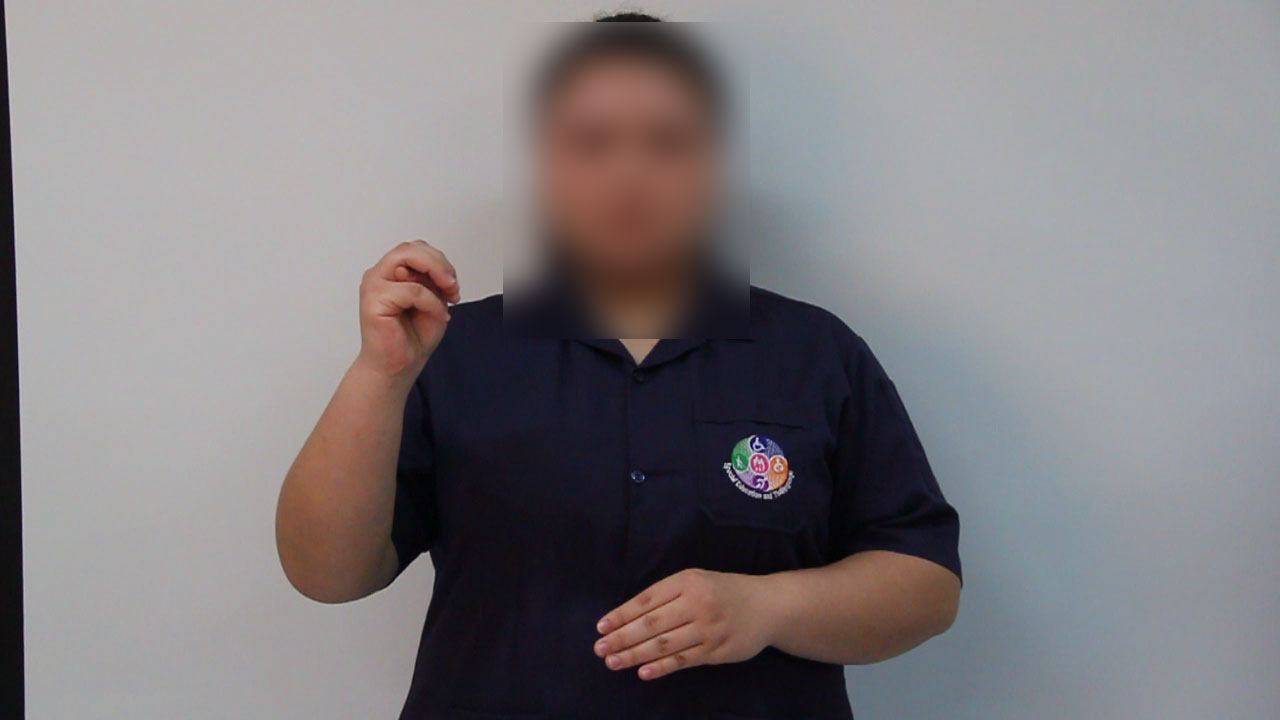mor: (349, 218, 468, 387)
